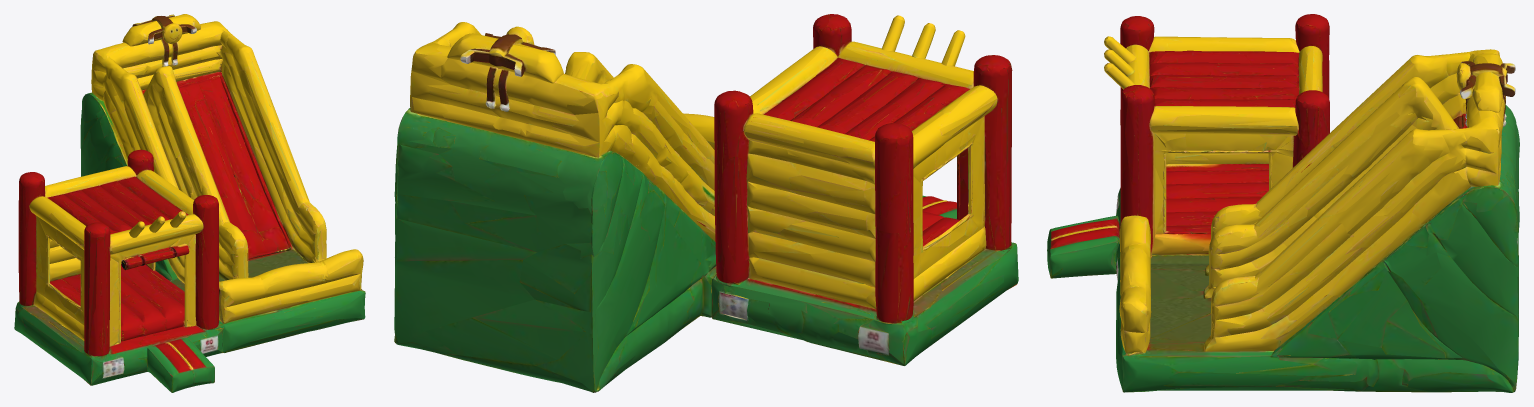
3 renders of one model, left to right at view 1: azimuth 30°, elevation 25°; view 2: azimuth 150°, elevation 25°; view 3: azimuth 270°, elevation 25°, orthographic. The views are drawn at different scales.
Size of the model in its own units: 1.74 by 1.28 by 1.9.
Materials: 1 (1 with a texture image).
